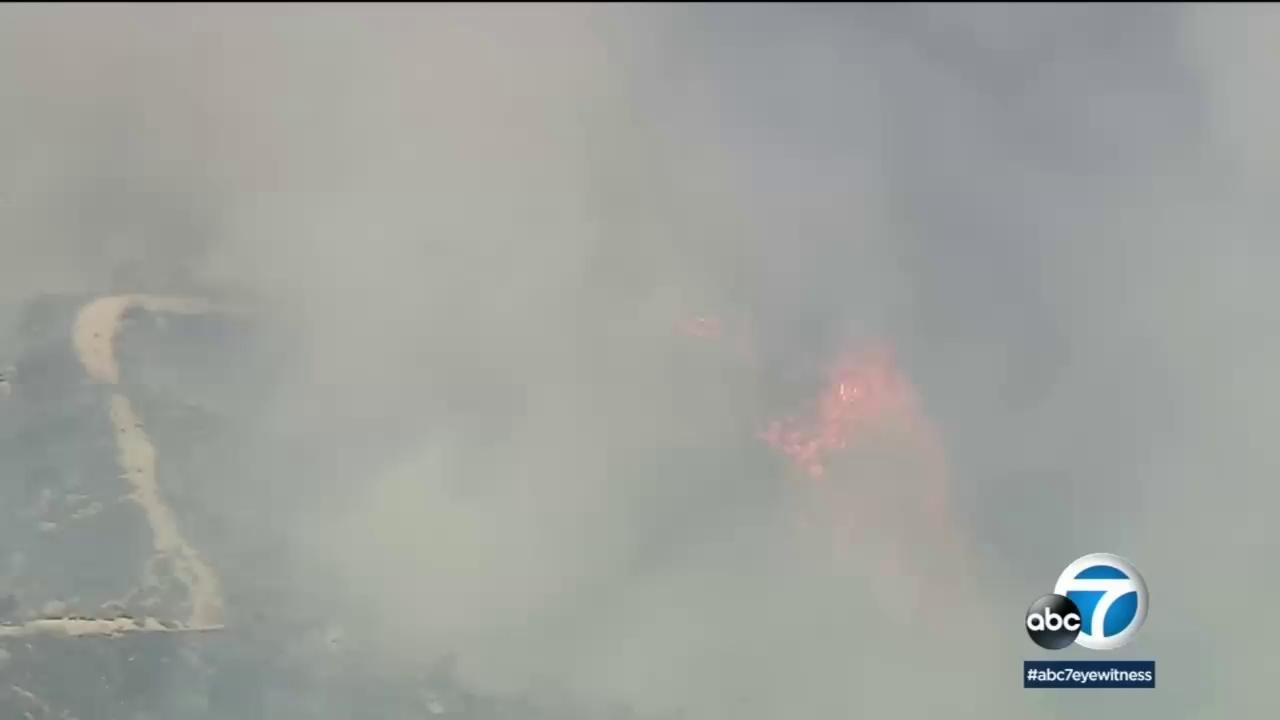fire: (755, 344, 919, 484), (672, 316, 723, 339)
smoke: (0, 4, 1280, 720)
